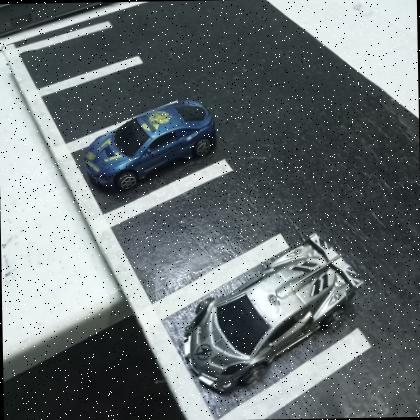Car: (184, 236, 360, 396), (82, 100, 217, 193)
